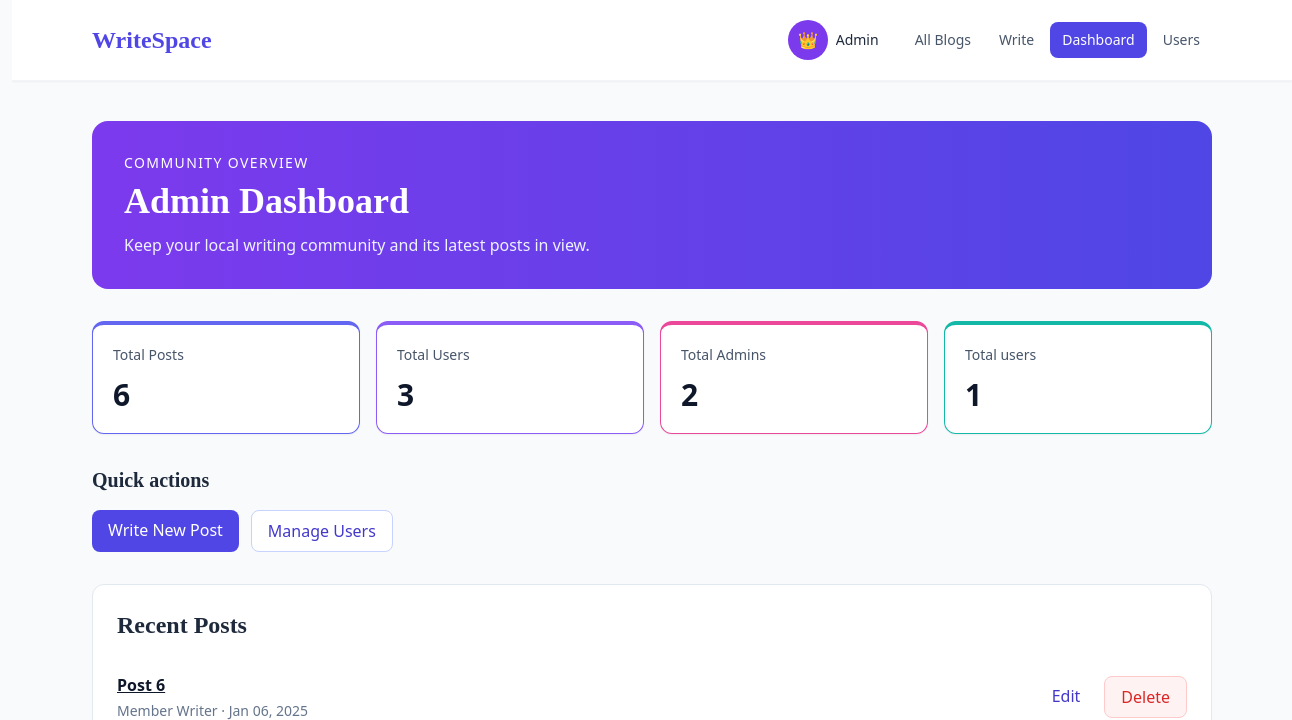
dashboard › counts every role and shows only the newest five with real edit links
This screenshot has width=1292, height=720.
Click the link with aria-label "Edit Post 6" at (1066, 696), box left=1052, top=685, right=1080, bottom=707
(page scrolled)
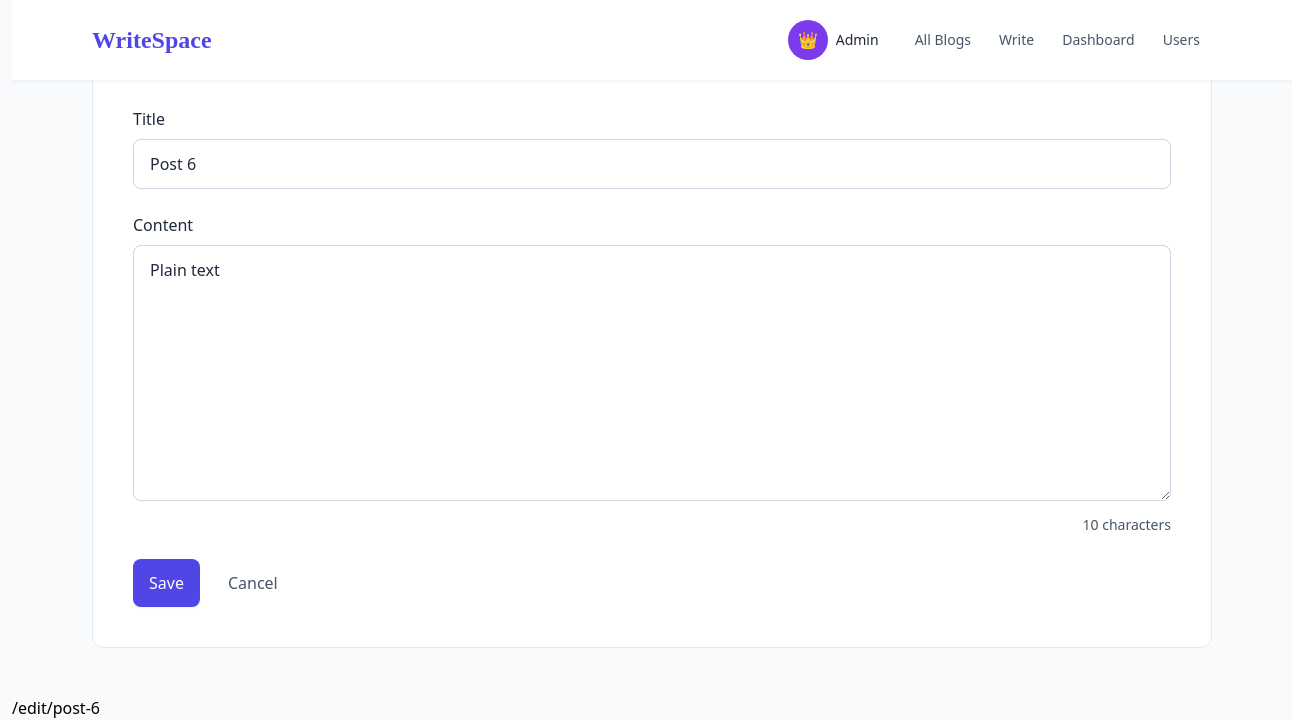
Expected: the field labelled "Title" holds "Post 6", left=133, top=139, right=1171, bottom=189
Expected: the text named "Current route" reads "/edit/post-6", left=12, top=697, right=100, bottom=719
